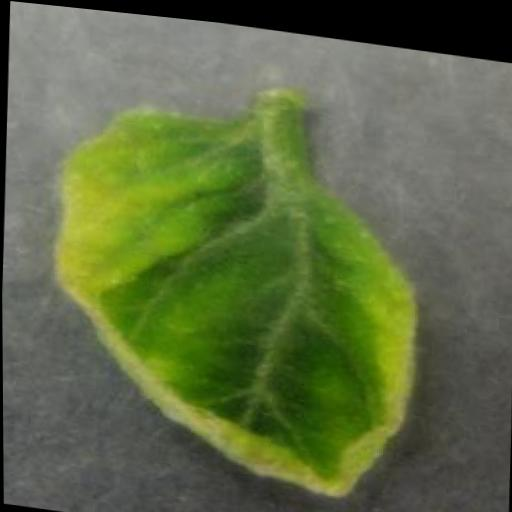Yellow Leaf Curl Virus: (39, 85, 424, 503)
